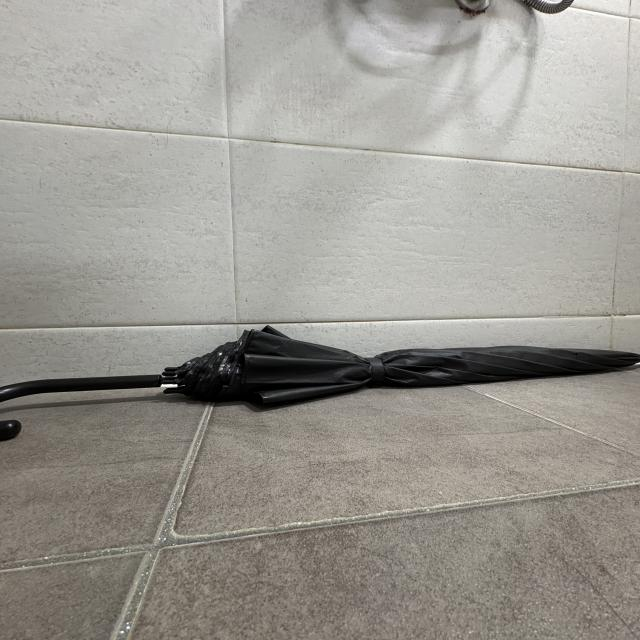umbrella: (0, 329, 640, 441)
